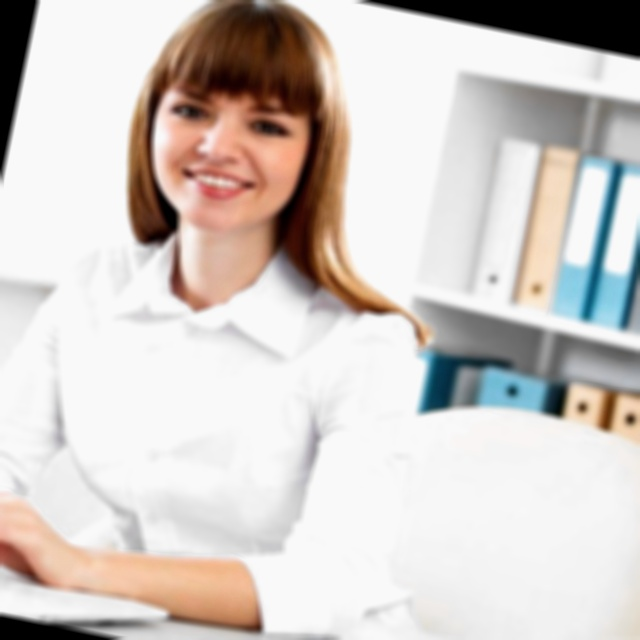Sin_Casco_Mascarrilla: (112, 0, 367, 258)
